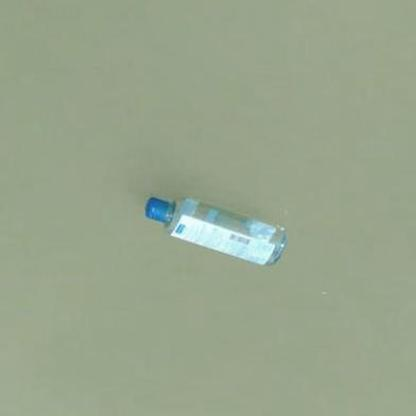plastic bottle: (144, 195, 286, 268)
